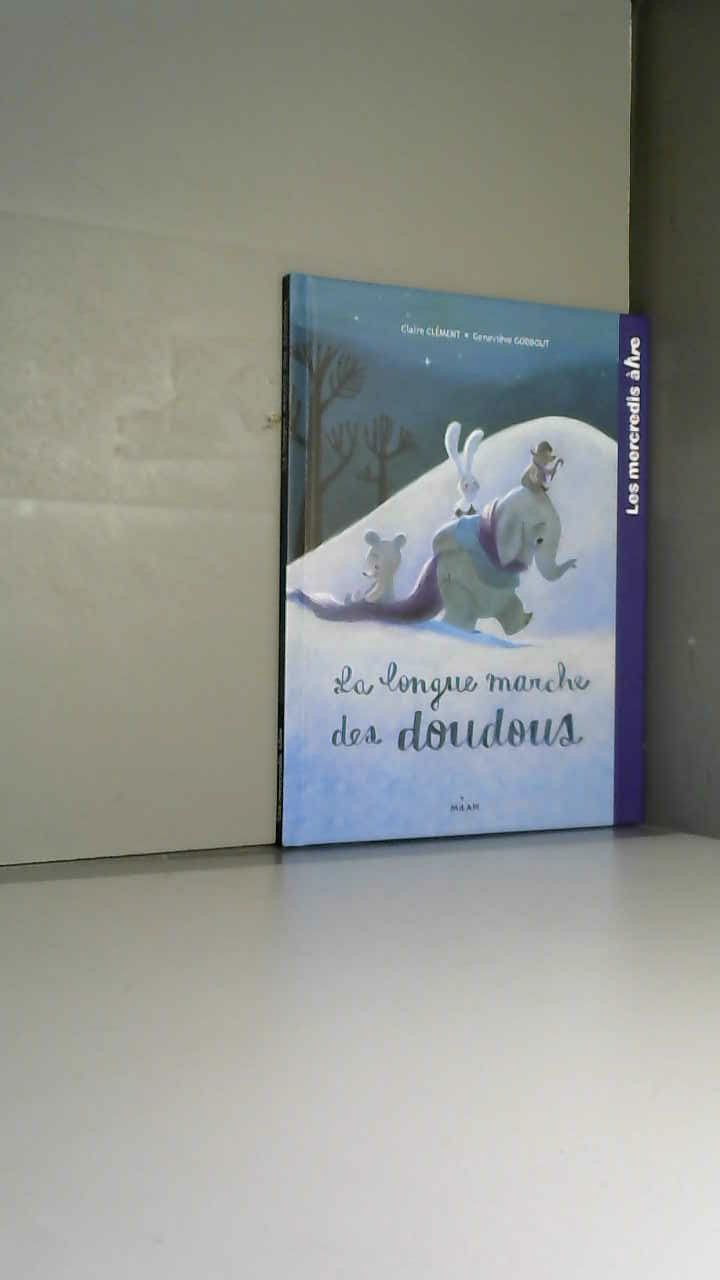book: (250, 240, 720, 896)
